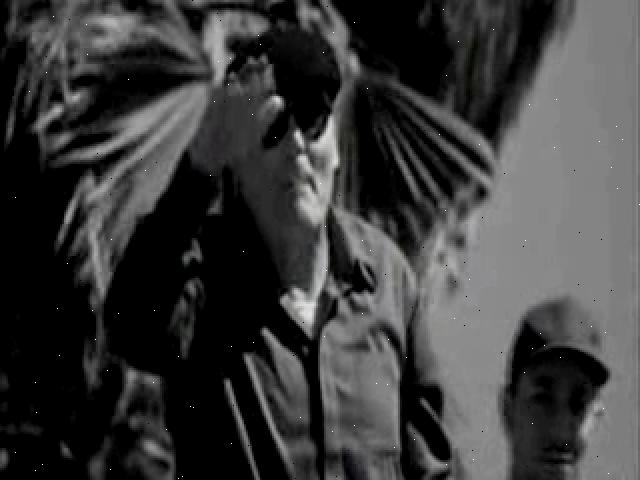T: (110, 20, 466, 478)
